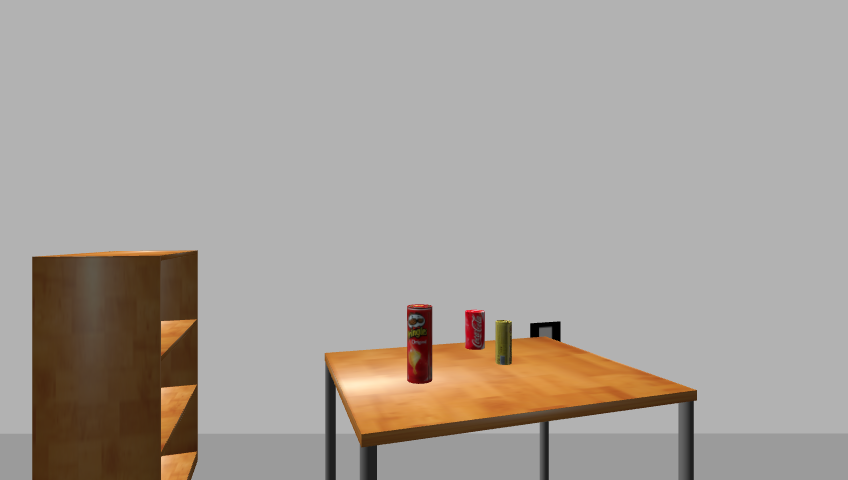aruco marker: (527, 320, 565, 346)
biscuits pack: (496, 320, 514, 366)
bookshelf: (27, 249, 206, 479)
coke can: (464, 309, 486, 351)
dinner table: (316, 338, 705, 480)
pringles can: (404, 303, 434, 386)
